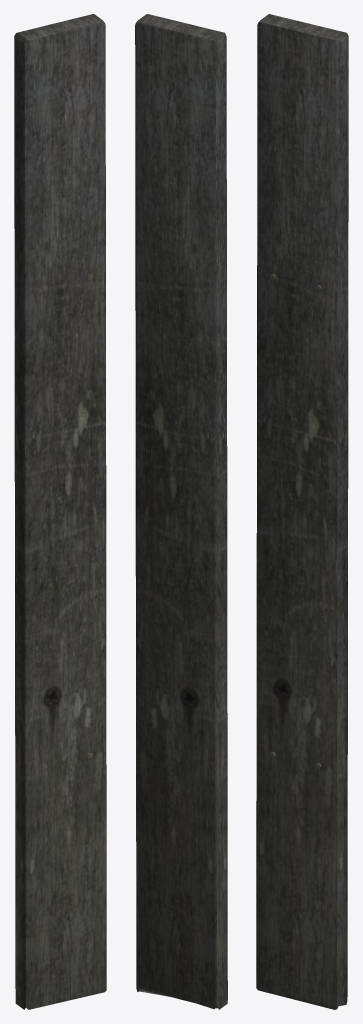
File: fence_picket.glb
3 views of the same model, side by side, from view 1: azimuth 30°, elevation 25°; view 2: azimuth 150°, elevation 25°; view 3: azimuth 330°, elevation 25° (orthographic).
Parts seen in each view (by area): view 1: fence_picket; view 2: fence_picket; view 3: fence_picket.
Part boxes in pixels (x1,y1,x2,y2): fence_picket: (14,14,106,1009); fence_picket: (135,14,227,1009); fence_picket: (256,14,348,1009).
Bounding box in the file's own units: 0.09 × 1.02 × 0.0258.
Materials: 2 (2 with a texture image).
